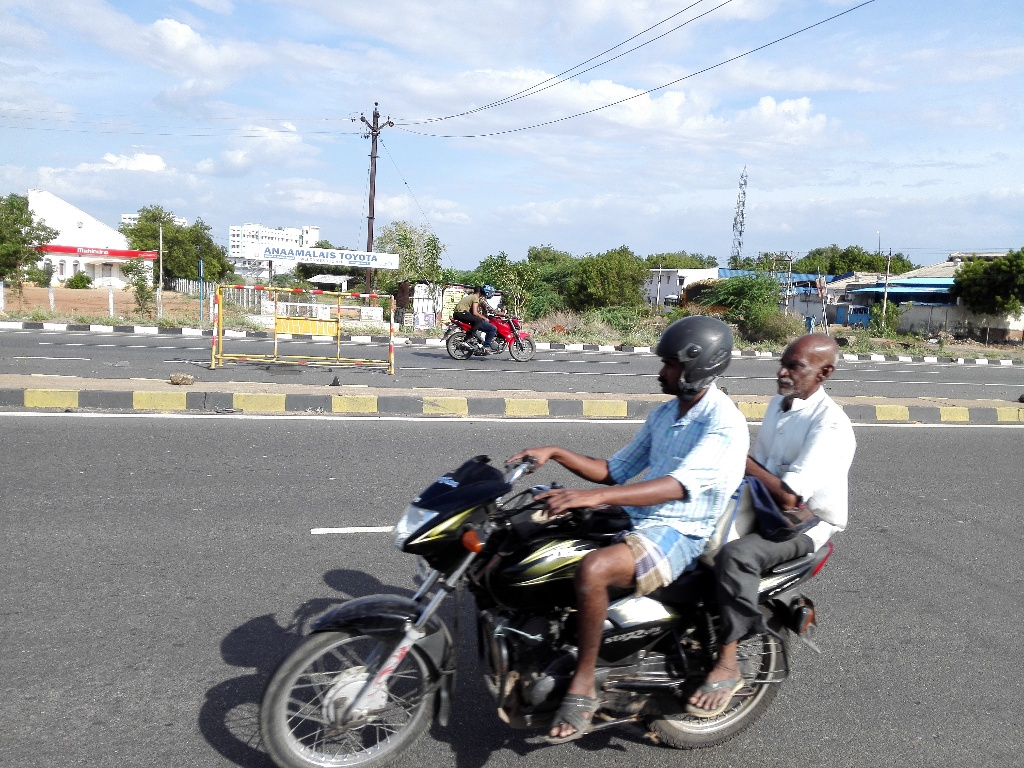biker: (243, 242, 876, 766), (429, 257, 549, 370)
helmet: (630, 304, 744, 409), (483, 280, 499, 303)
nohelmet: (760, 318, 851, 412), (469, 283, 486, 302)
